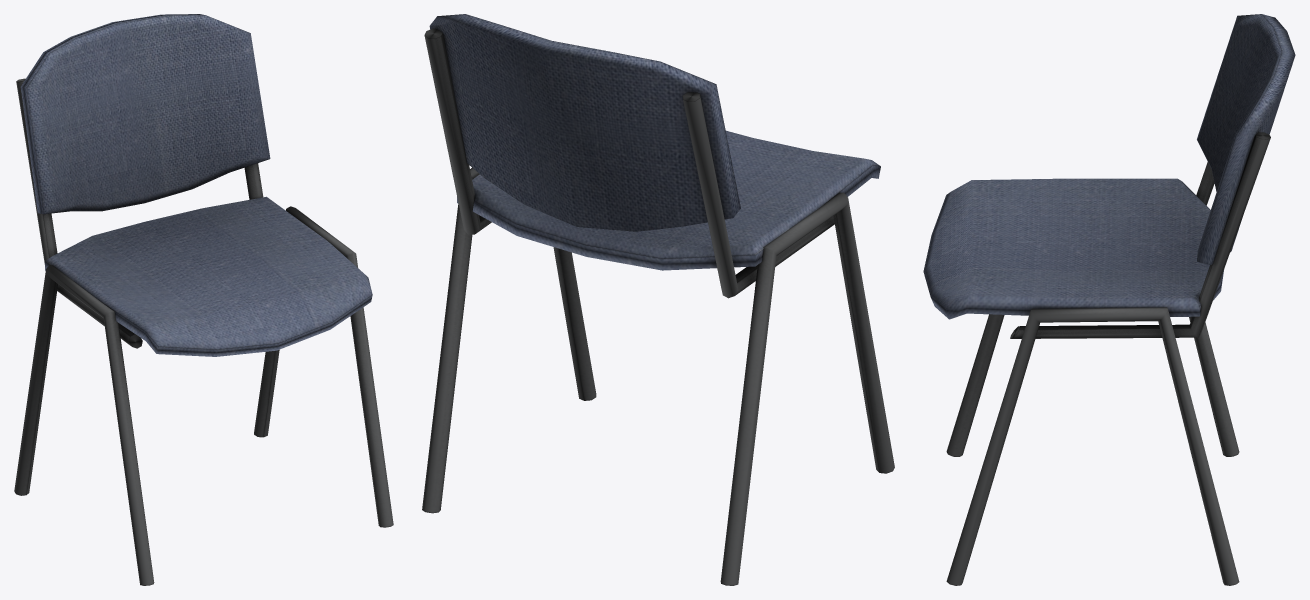
Rendered from Office_Chair_1.fbx.
3 renders of one model, left to right at view 1: azimuth 30°, elevation 25°; view 2: azimuth 150°, elevation 25°; view 3: azimuth 270°, elevation 25°, orthographic. The views are drawn at different scales.
Parts seen in each view (by area): view 1: Office_Chair_1; view 2: Office_Chair_1; view 3: Office_Chair_1.
Part boxes in pixels (<box>): Office_Chair_1: <box>14,14,393,585</box>; Office_Chair_1: <box>422,14,894,585</box>; Office_Chair_1: <box>923,14,1295,585</box>.
Bounding box in the file's own units: 66.75 × 107 × 77.28.
